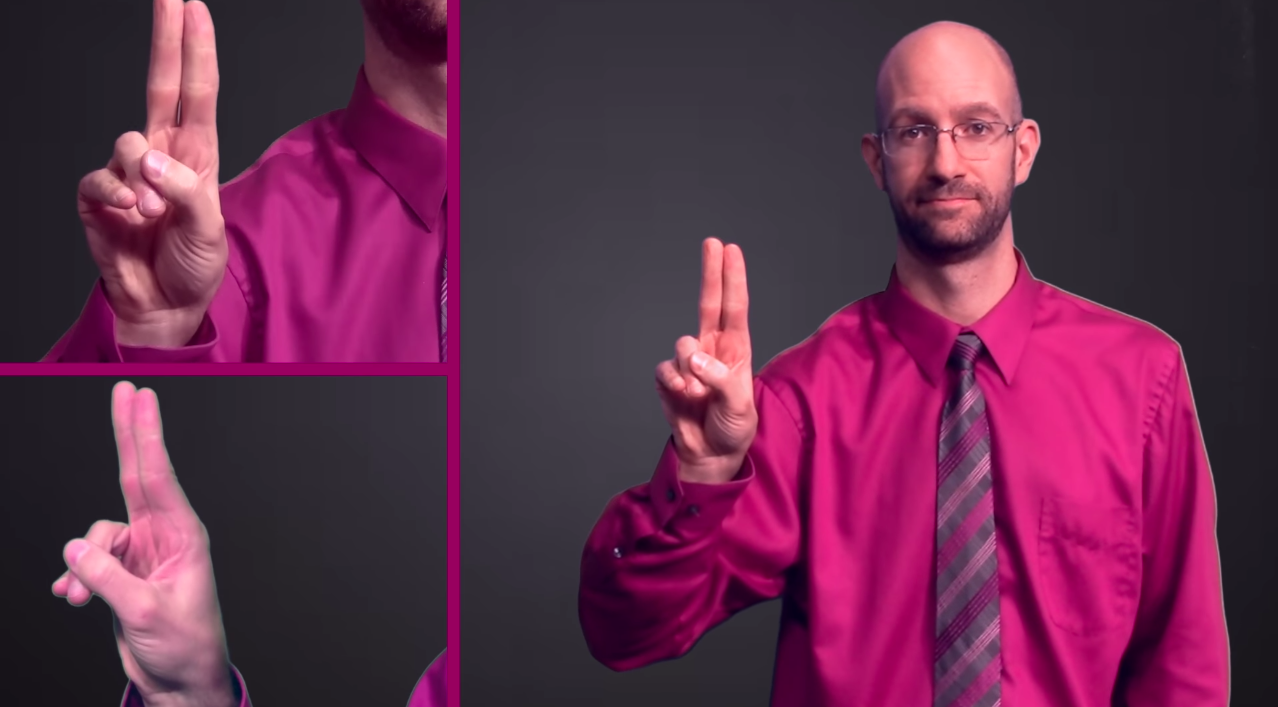u: (36, 377, 255, 707), (69, 1, 243, 329), (639, 228, 771, 484)
